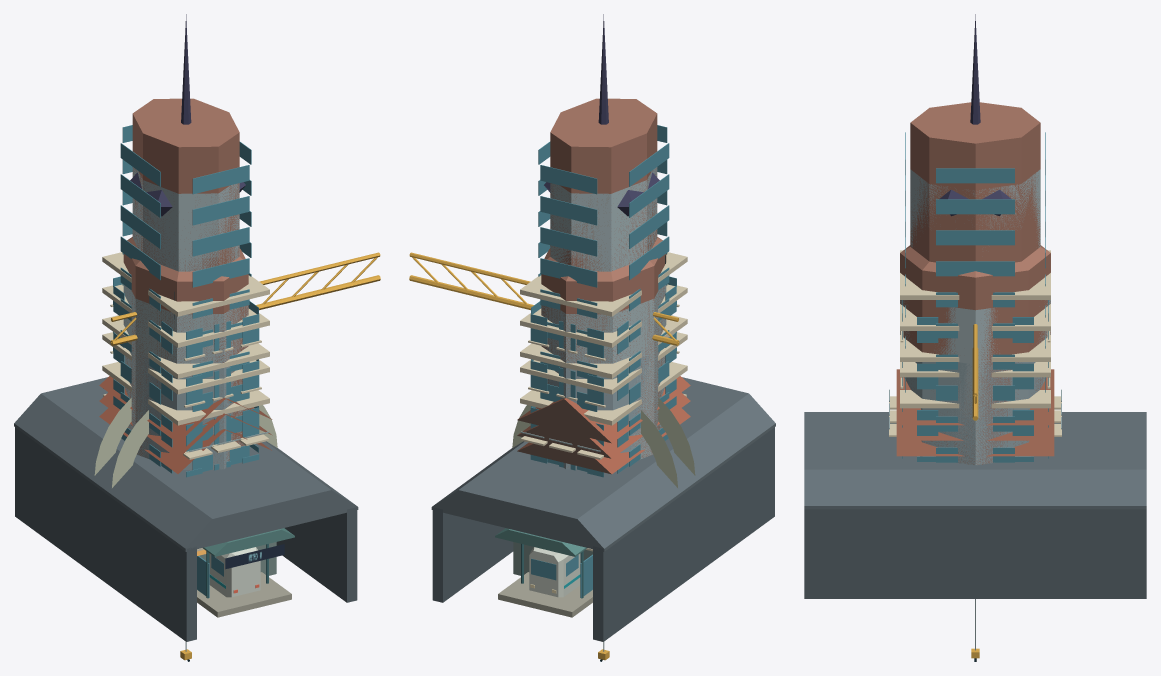
Rendered from city-kit.glb.
The picture shows the model from 3 angles, left to right: view 1: azimuth 30°, elevation 25°; view 2: azimuth 150°, elevation 25°; view 3: azimuth 270°, elevation 25°; orthographic projection.
Visible parts, largest first — view 1: tunnel, building-6, building-11, building-1, building-0, station, building-10, arch, building-7, crane, train-car, building-5 (+5 smaller); view 2: tunnel, building-6, building-11, building-1, building-0, station, building-10, arch, building-2, crane, train-car, building-3 (+5 smaller); view 3: tunnel, building-11, building-6, building-1, building-0, building-10, building-7, building-2, building-3, building-5, building-8, building-9 (+2 smaller).
Part boxes in pixels (bbox=[...]): tunnel: bbox=[14, 377, 358, 641]; building-6: bbox=[120, 160, 251, 468]; building-11: bbox=[120, 98, 251, 464]; building-1: bbox=[120, 253, 251, 471]; building-0: bbox=[102, 315, 269, 555]; station: bbox=[197, 528, 294, 617]; building-10: bbox=[102, 252, 269, 360]; arch: bbox=[94, 398, 277, 487]; building-7: bbox=[102, 362, 269, 459]; crane: bbox=[110, 252, 380, 345]; train-car: bbox=[209, 547, 260, 597]; building-5: bbox=[102, 284, 269, 347]; tunnel: bbox=[431, 377, 775, 641]; building-6: bbox=[538, 160, 669, 464]; building-11: bbox=[538, 98, 669, 457]; building-1: bbox=[538, 253, 669, 471]; building-0: bbox=[520, 315, 687, 477]; station: bbox=[495, 528, 592, 617]; building-10: bbox=[520, 252, 687, 360]; arch: bbox=[512, 398, 695, 487]; building-2: bbox=[517, 376, 690, 551]; crane: bbox=[409, 252, 679, 345]; train-car: bbox=[529, 547, 580, 597]; building-3: bbox=[517, 408, 690, 474]; tunnel: bbox=[804, 412, 1146, 598]; building-11: bbox=[900, 102, 1050, 464]; building-6: bbox=[900, 169, 1050, 464]; building-1: bbox=[904, 274, 1046, 465]; building-0: bbox=[900, 335, 1050, 461]; building-10: bbox=[900, 250, 1050, 342]; building-7: bbox=[889, 389, 1061, 436]; building-2: bbox=[896, 369, 1054, 425]; building-3: bbox=[896, 440, 1054, 456]; building-5: bbox=[900, 304, 1050, 330]; building-8: bbox=[896, 425, 1054, 440]; building-9: bbox=[900, 362, 1050, 377].
Bounding box in the file's own units: 18.83 × 41.68 × 20.
Materials: 1 (1 with a texture image).
